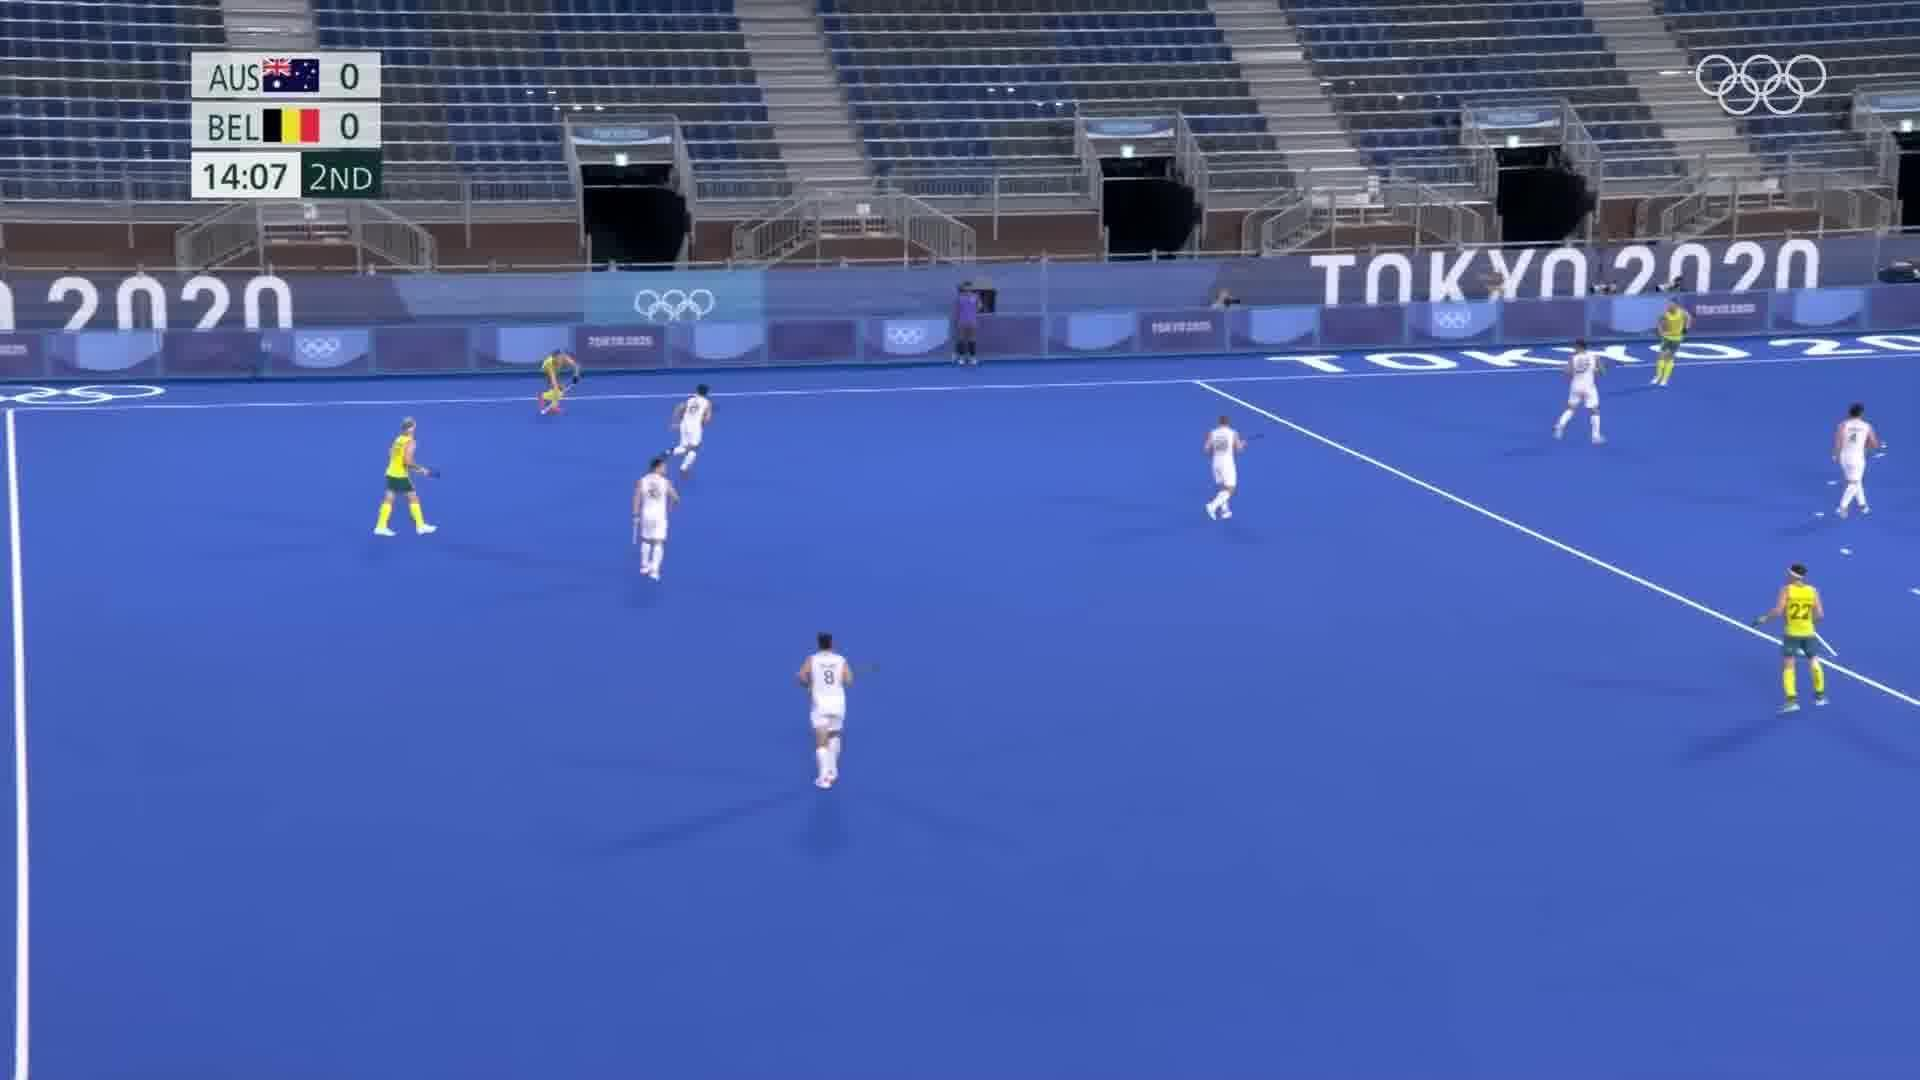ball: (535, 407, 549, 417)
